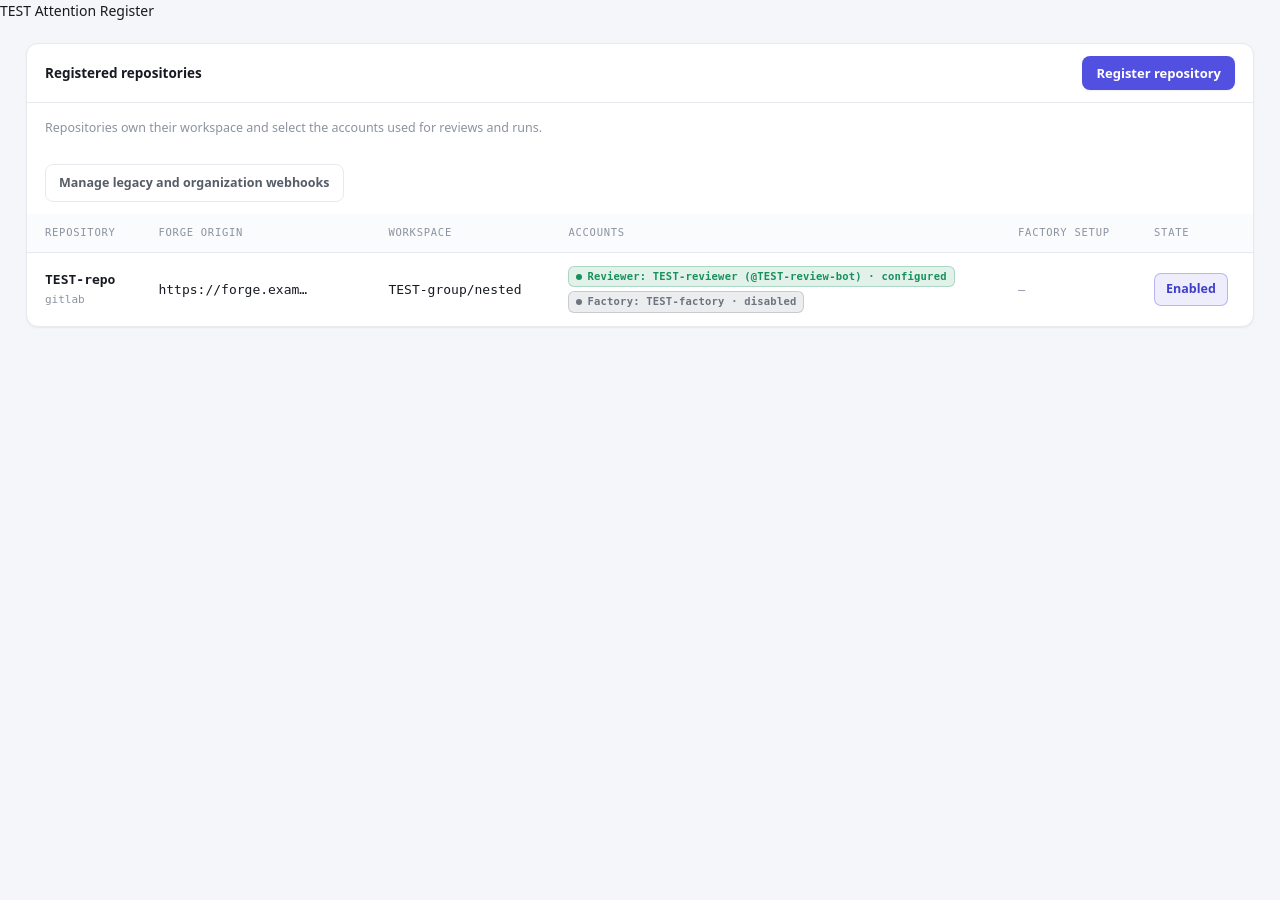
Test: Repository registry › prefills registration from Attention while the repository page is already mounted
Expected: the link "TEST-repo" is shown, [45,272,116,287]
Click the link "TEST Attention Register".
click(77, 10)  # box [0,1,154,20]
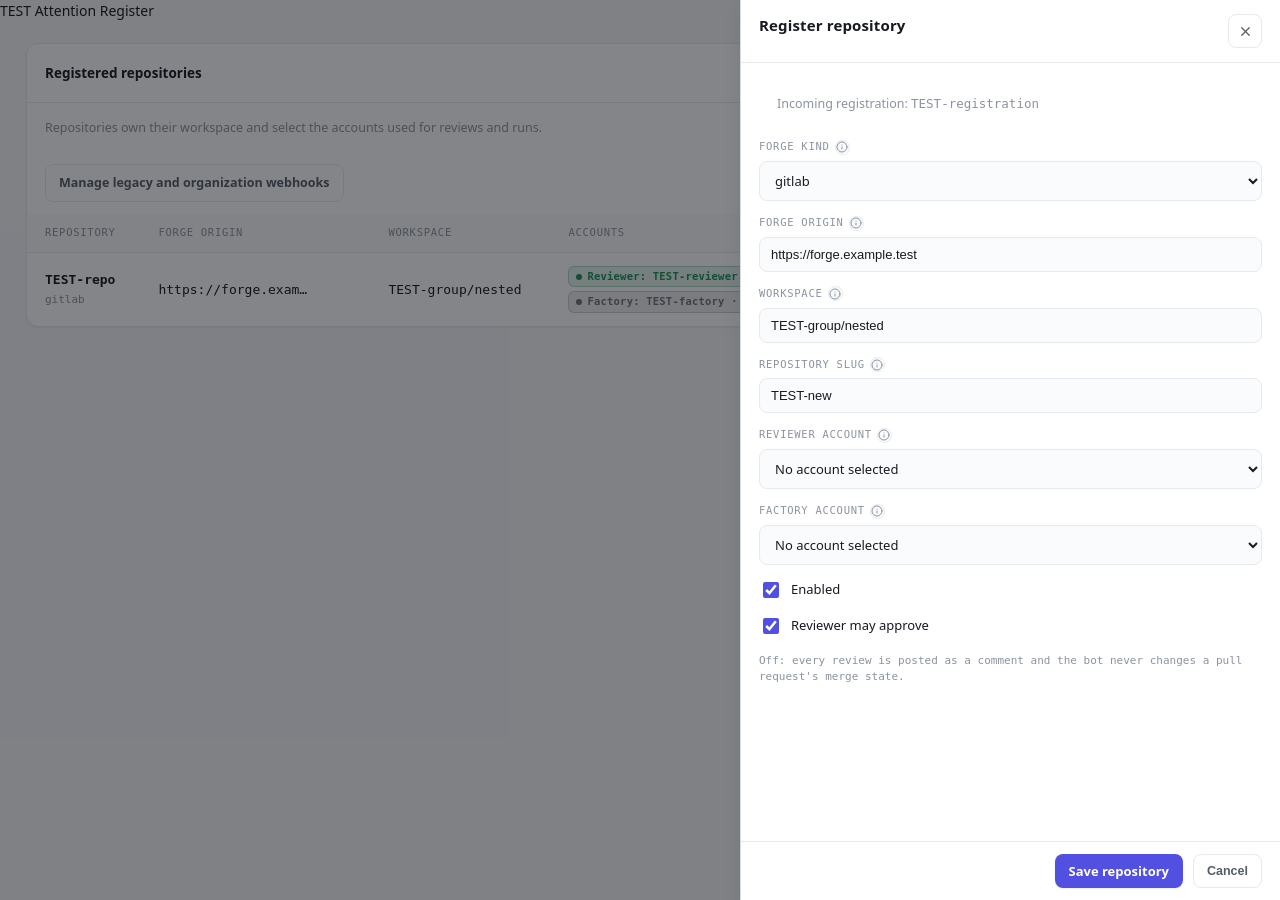
Result: the field named "Workspace" holds "TEST-group/nested" at [759,308,1262,343]
Result: the field named "Forge origin" holds "https://forge.example.test" at [759,237,1262,272]
Result: the field named "Repository slug" holds "TEST-new" at [759,378,1262,413]
